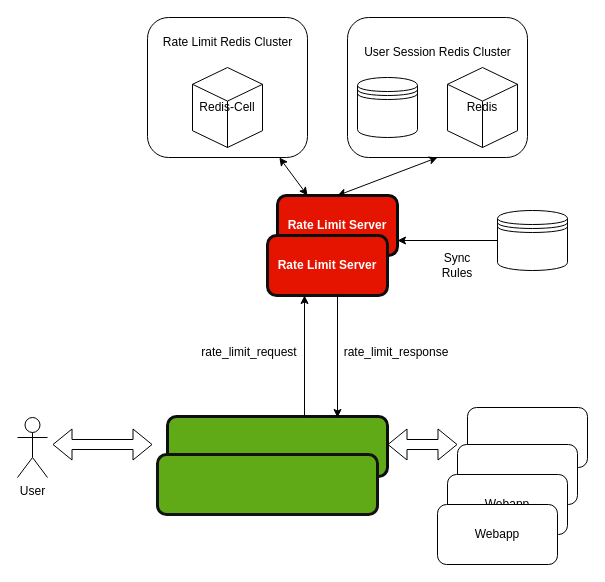
Image size: 605x582. Some labels were removed from this diagram. Each missing label, with the box of its shape:
Nginx: (166, 414, 388, 478)
Nginx With rate-limit-request-module: (156, 452, 378, 516)
Rules DB: (496, 210, 568, 270)
User DB: (356, 76, 418, 138)
